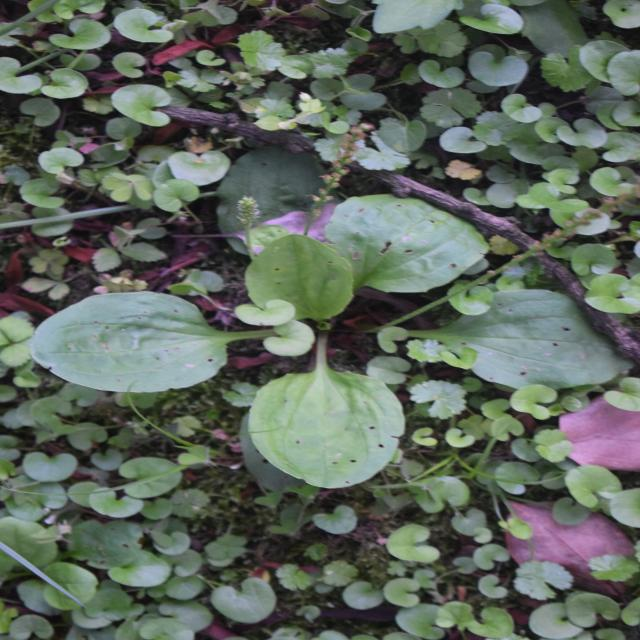plantain: (184, 70, 457, 577)
